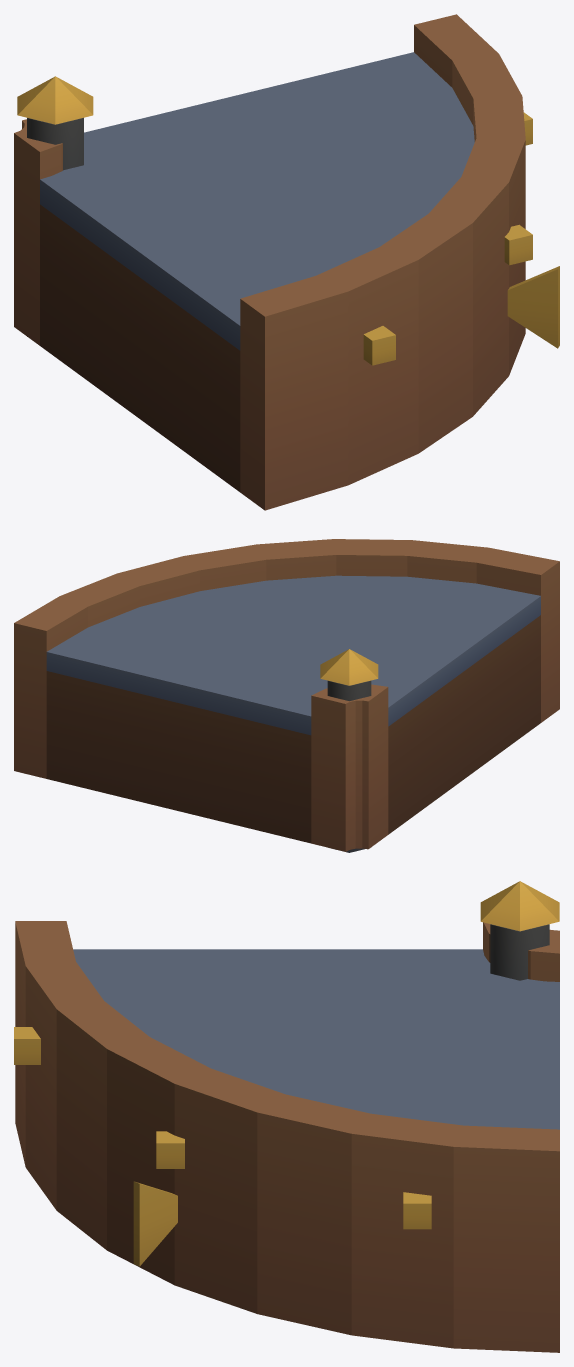
Rendered from logi_belt_turn.glb.
3 views of the same model, one above another, from view 1: azimuth 30°, elevation 25°; view 2: azimuth 150°, elevation 25°; view 3: azimuth 270°, elevation 25° (orthographic). The views are drawn at different scales.
Visible parts, largest first — view 1: logi_belt_turn; view 2: logi_belt_turn; view 3: logi_belt_turn.
Boxes of the visible parts, x1=… form: logi_belt_turn: x1=14, y1=14, x2=559, y2=510; logi_belt_turn: x1=14, y1=539, x2=559, y2=852; logi_belt_turn: x1=14, y1=881, x2=559, y2=1352.
Bounding box in the file's own units: 1.93 × 1.02 × 1.91.
1 material, 1 textured.
